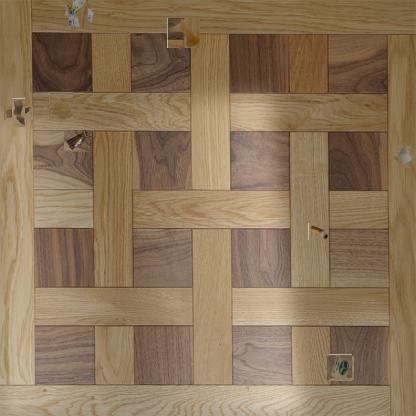dirty: (328, 355, 353, 381), (66, 1, 91, 26), (64, 130, 90, 152), (8, 102, 29, 124), (308, 222, 329, 240), (396, 148, 414, 166)
liquid: (168, 18, 200, 49), (49, 92, 73, 120)
